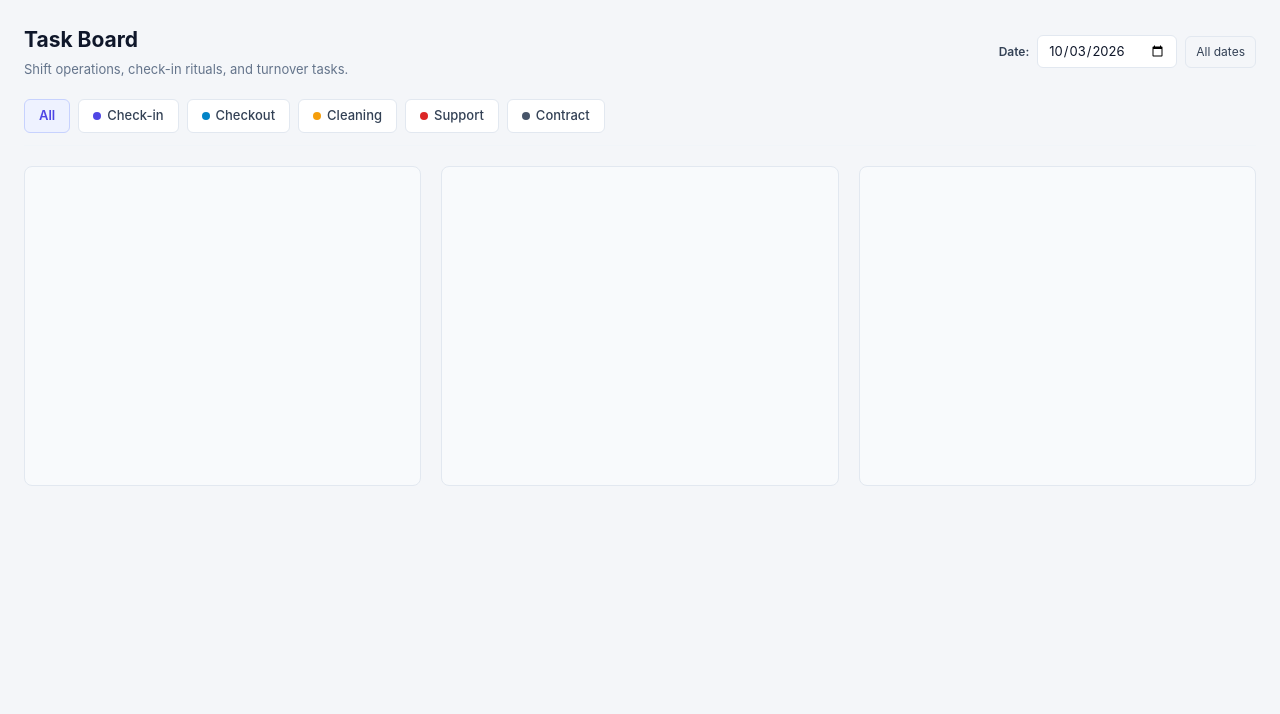
Scenario: Story 3.2: Kanban Task Board › renders 3 columns (To do, In progress, Done) with header counts when viewing all dates
Note: Click "All dates" to view full task board
Click the button with test id "all-dates-btn": (1221, 52) [1185,36,1256,68]
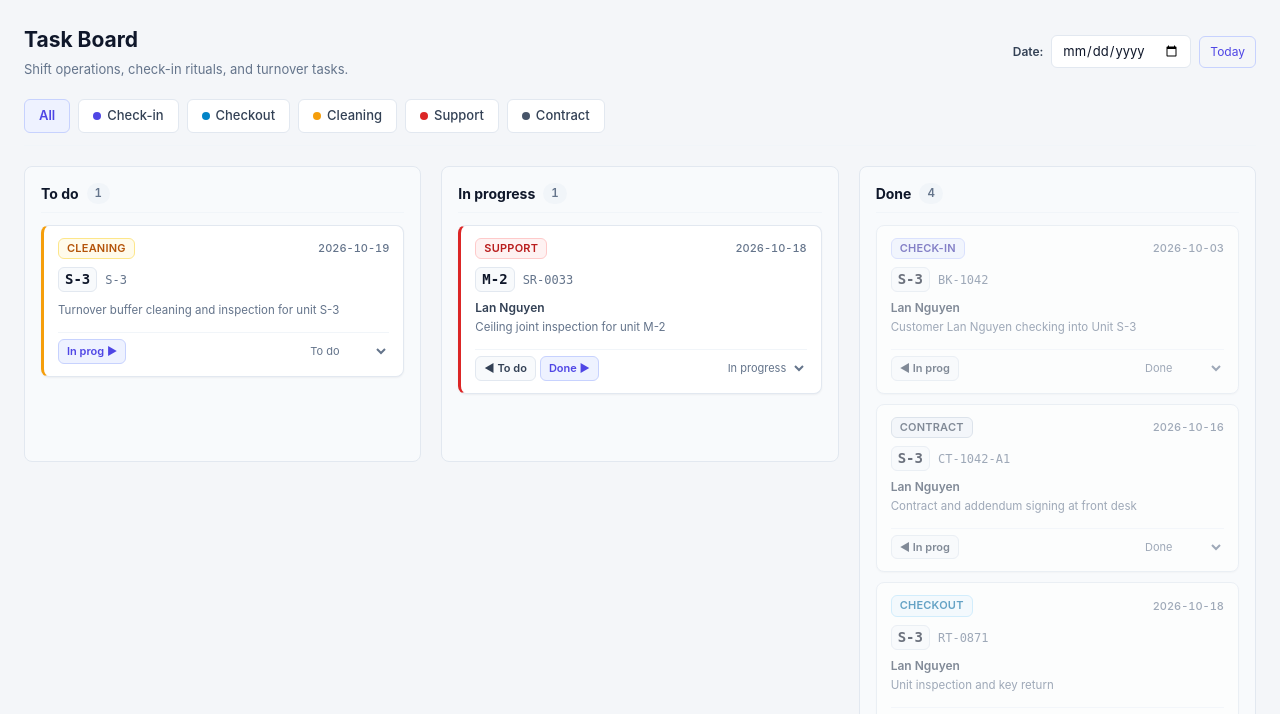
Now the element with test id "kanban-column-todo" is shown, box [24,166,421,462]
Now the element with test id "kanban-column-in_progress" is shown, box [441,166,839,462]
Now the text with test id "column-count-todo" reads "1", box [95,186,102,200]
